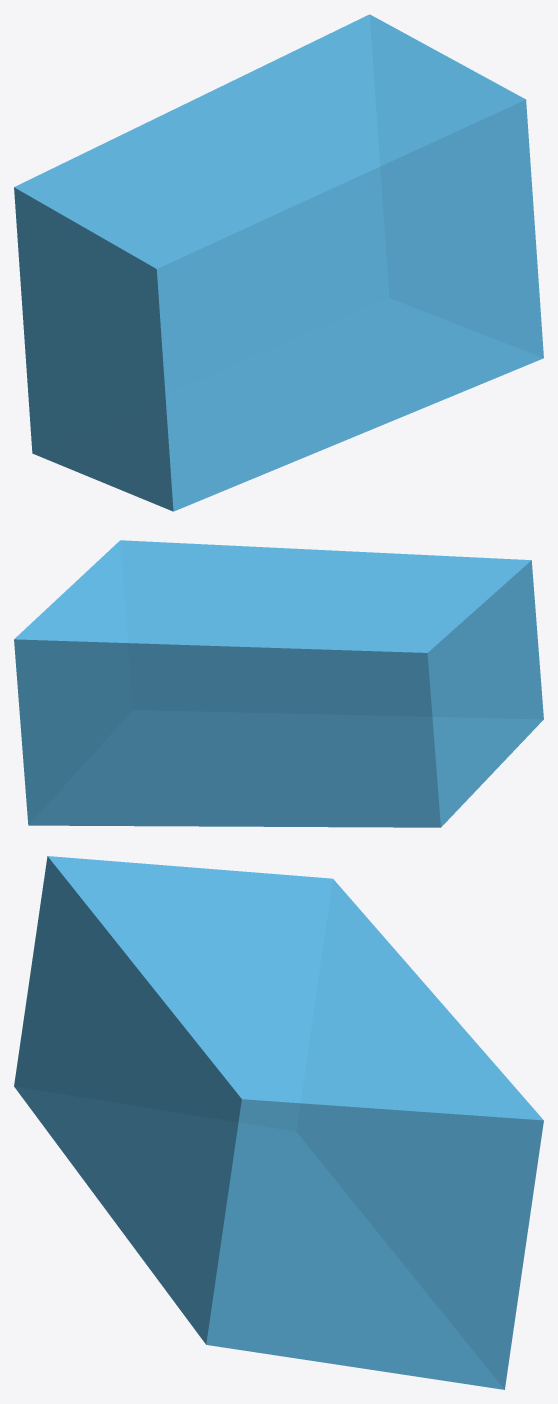
Rendered from Event_421364160_HErechit_20.fbx.
3 renders of one model, top to bottom at view 1: azimuth 30°, elevation 25°; view 2: azimuth 150°, elevation 25°; view 3: azimuth 270°, elevation 25°, orthographic. The views are drawn at different scales.
Parts seen in each view (by area): view 1: Model; view 2: Model; view 3: Model.
Boxes of the visible parts, box(x1,y1,x2,y2) form: Model: box(14, 14, 543, 511); Model: box(14, 540, 543, 827); Model: box(14, 856, 543, 1389).
Bounding box in the file's own units: 0.6753 × 0.4271 × 0.6642.
